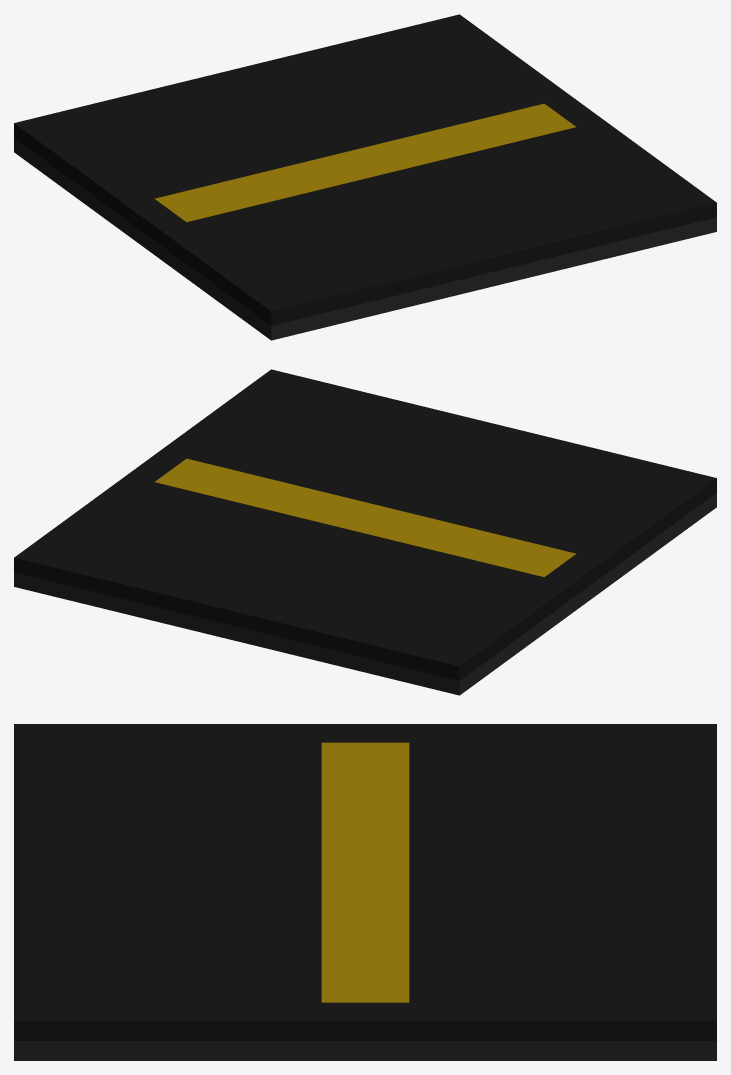
File: carground3.obj
The picture shows the model from 3 angles, top to bottom: view 1: azimuth 30°, elevation 25°; view 2: azimuth 150°, elevation 25°; view 3: azimuth 270°, elevation 25°; orthographic projection. The views are drawn at different scales.
Bounding box in the file's own units: 3.2 × 0.2 × 3.2.
1 material, 1 textured.
